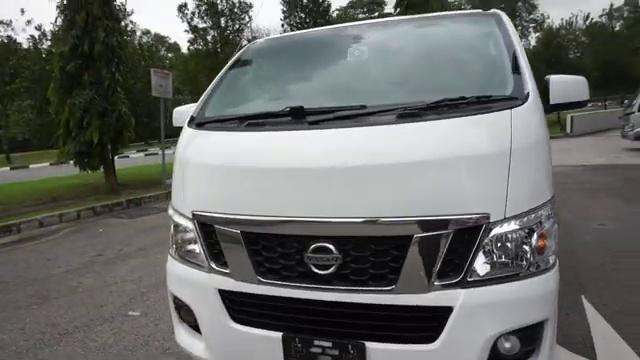Van: (170, 15, 563, 360)
